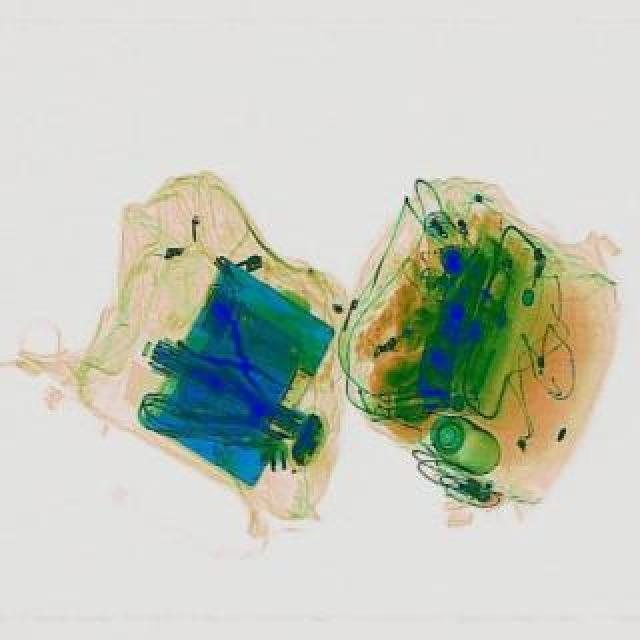wrench: (172, 300, 300, 414)
